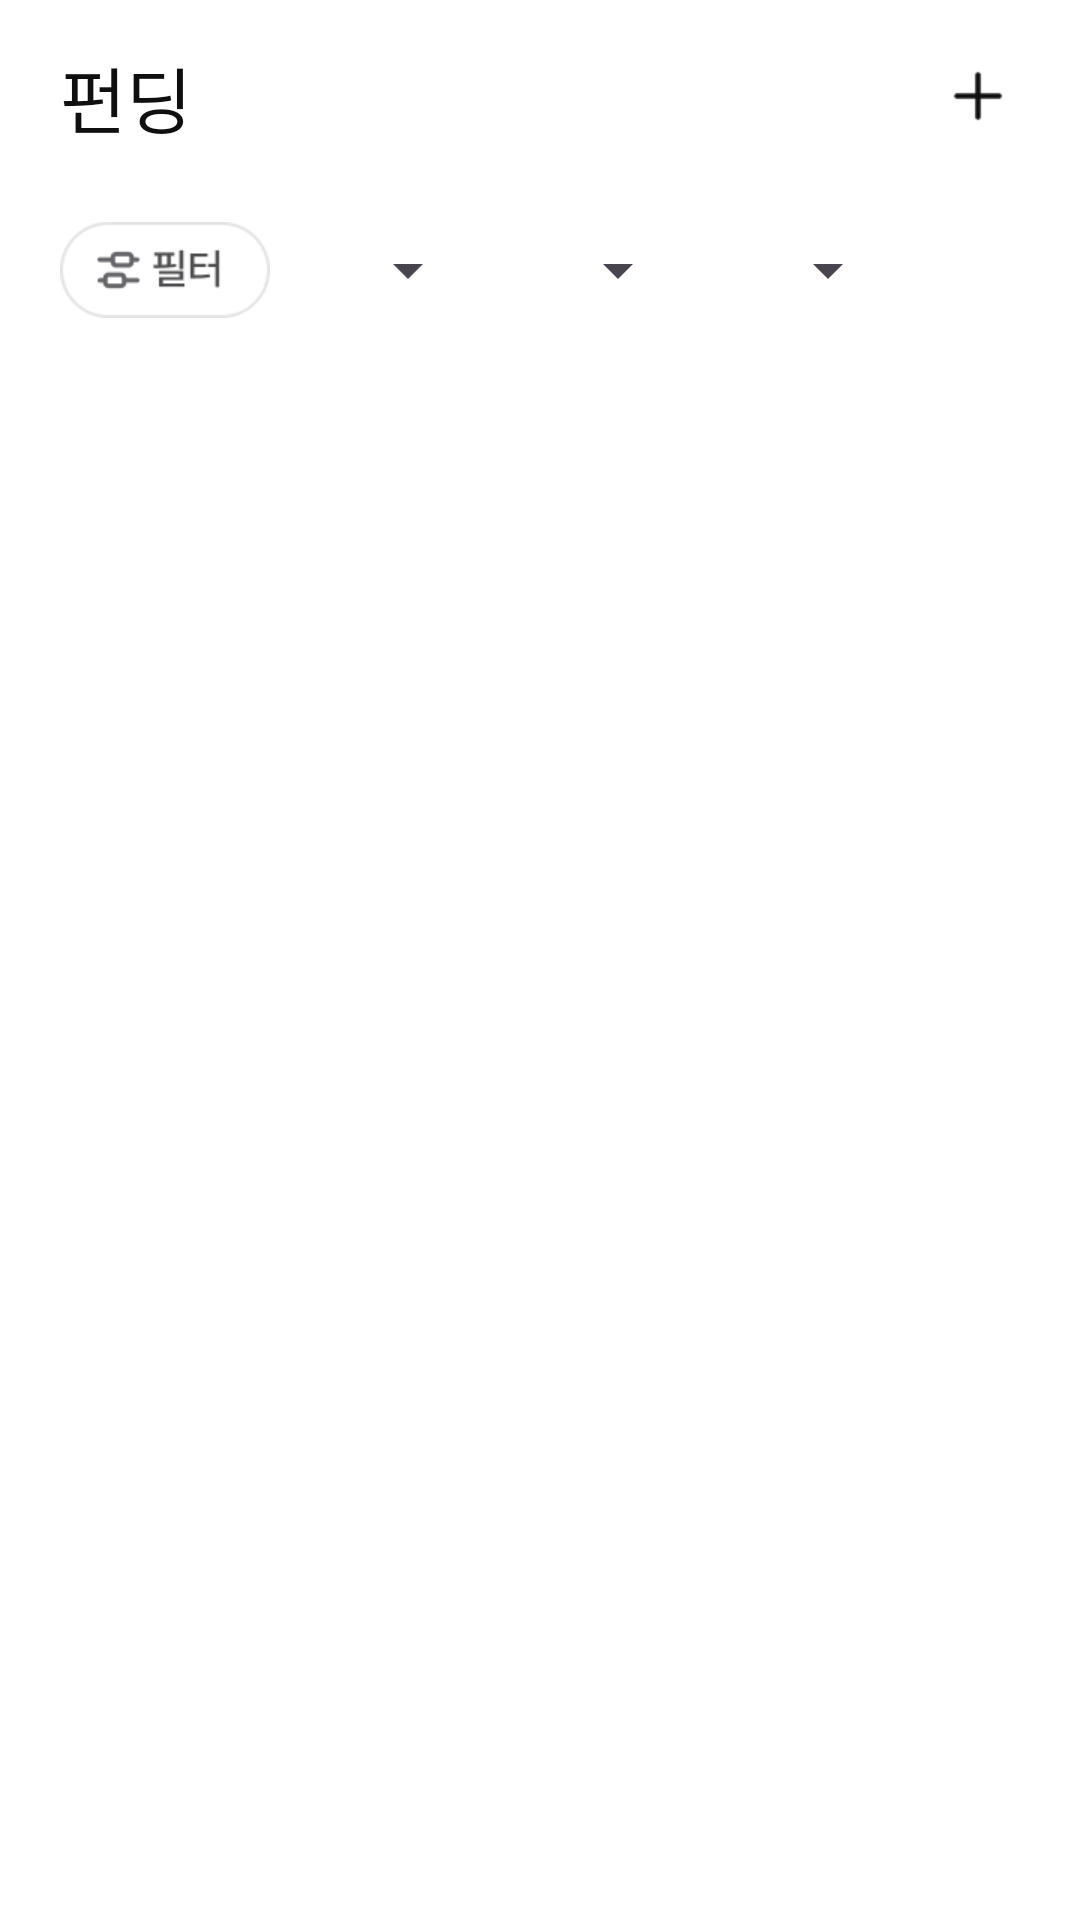

Screen size 1080 × 1920. Icon name, then its box in pixels as bbox=[x1, y1, x2, y2]:
add: bbox=[953, 71, 1003, 121]
